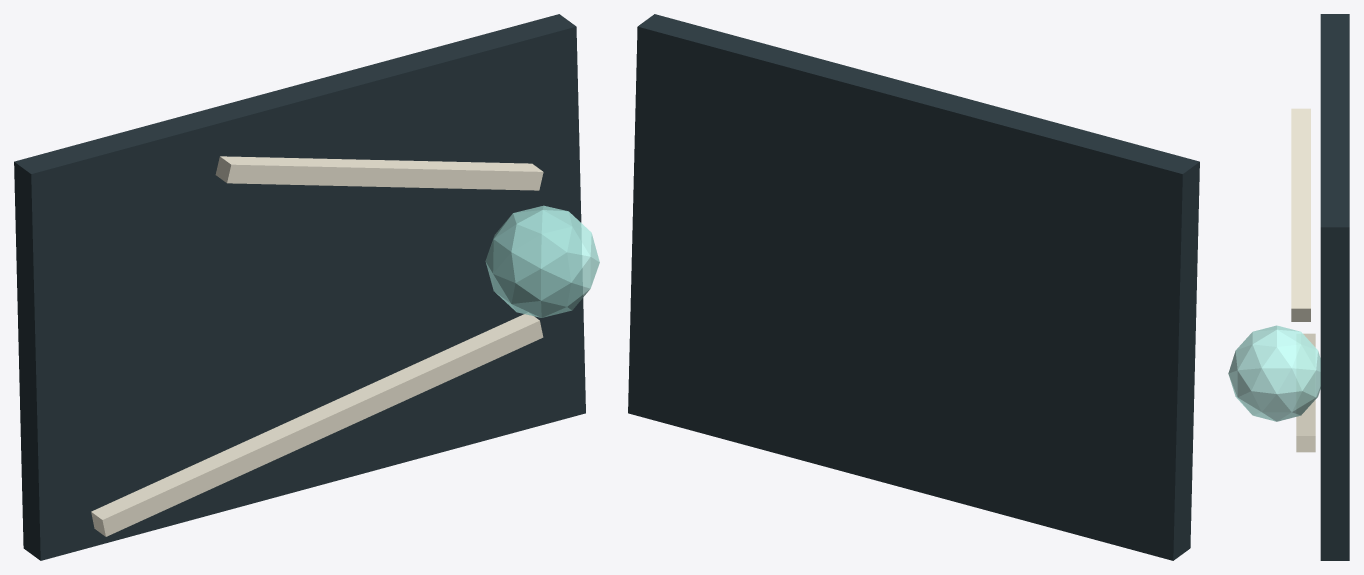
File: 02_world_prop_polish.glb
The picture shows the model from 3 angles, left to right: view 1: azimuth 30°, elevation 25°; view 2: azimuth 150°, elevation 25°; view 3: azimuth 270°, elevation 25°; orthographic projection. The views are drawn at different scales.
Visible parts, largest first — view 1: object_overlay_plate, edge_wear_a, glow_socket, edge_wear_b; view 2: object_overlay_plate; view 3: object_overlay_plate, glow_socket, edge_wear_b, edge_wear_a.
Boxes of the visible parts, <box> form: object_overlay_plate: <box>14,14,585,560</box>; edge_wear_a: <box>91,313,543,536</box>; glow_socket: <box>485,205,599,317</box>; edge_wear_b: <box>215,156,543,190</box>; object_overlay_plate: <box>628,14,1199,560</box>; object_overlay_plate: <box>1320,14,1349,560</box>; glow_socket: <box>1228,325,1320,421</box>; edge_wear_b: <box>1291,108,1310,321</box>; edge_wear_a: <box>1296,333,1315,452</box>.
Bounding box in the file's own units: 1.12 × 0.7779 × 0.25.
